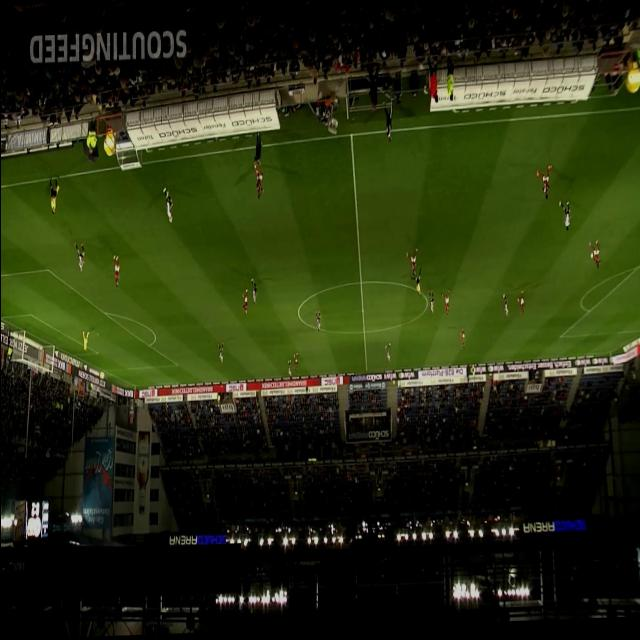goalkeeper: (81, 331, 89, 353)
player: (534, 168, 552, 203), (253, 162, 263, 201), (558, 204, 570, 235), (162, 188, 172, 224), (73, 241, 84, 273), (405, 250, 417, 279), (588, 243, 600, 272), (440, 292, 449, 318), (112, 256, 119, 288), (216, 342, 224, 365), (516, 296, 524, 318), (250, 279, 256, 306), (241, 290, 247, 316), (428, 292, 434, 317), (502, 298, 508, 321), (459, 331, 465, 352), (384, 345, 390, 365), (315, 311, 320, 333), (287, 361, 291, 379), (293, 355, 297, 371)
referee: (48, 176, 59, 214), (409, 270, 422, 298)
